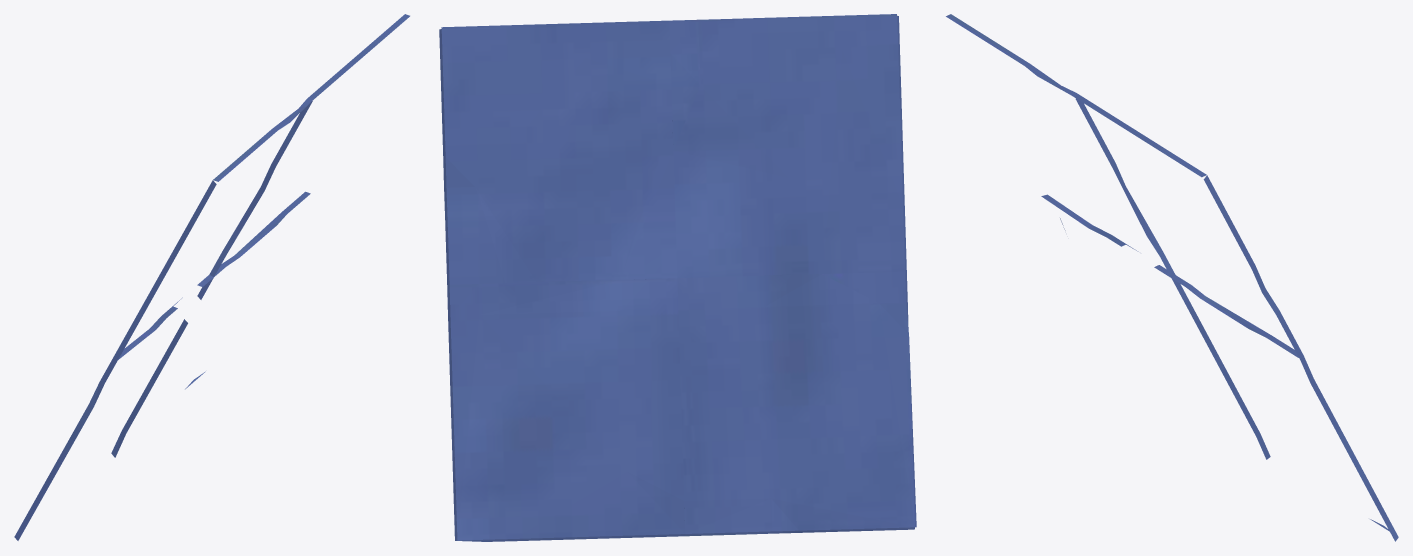
The picture shows the model from 3 angles, left to right: view 1: azimuth 30°, elevation 25°; view 2: azimuth 150°, elevation 25°; view 3: azimuth 270°, elevation 25°; orthographic projection. The views are drawn at different scales.
Size of the model in its own units: 39327 by 35388 by 34548.
Materials: 1 (1 with a texture image).
